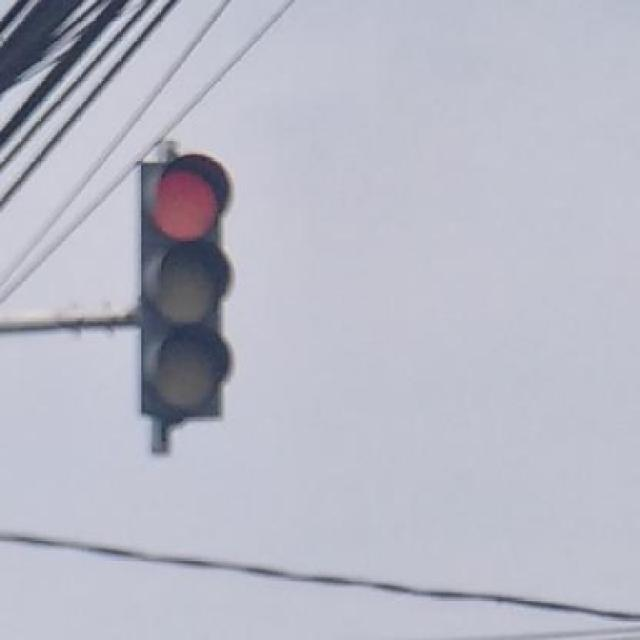red light: (140, 155, 230, 423)
